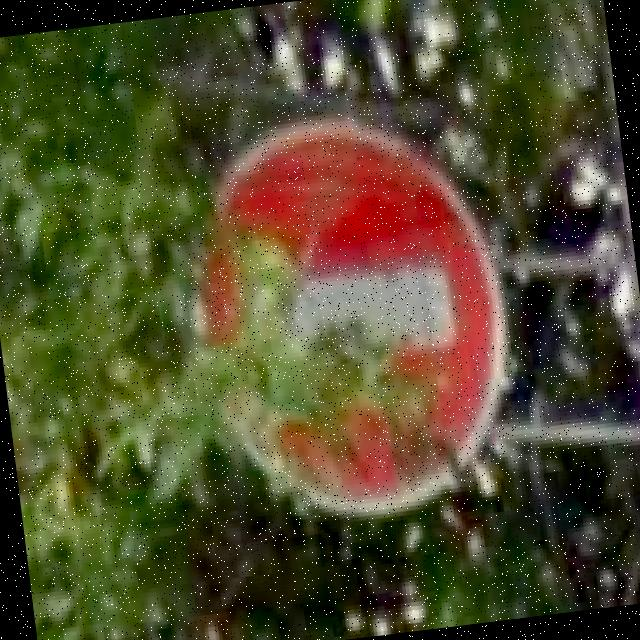Zakaz wjazdu: (164, 94, 533, 538)
